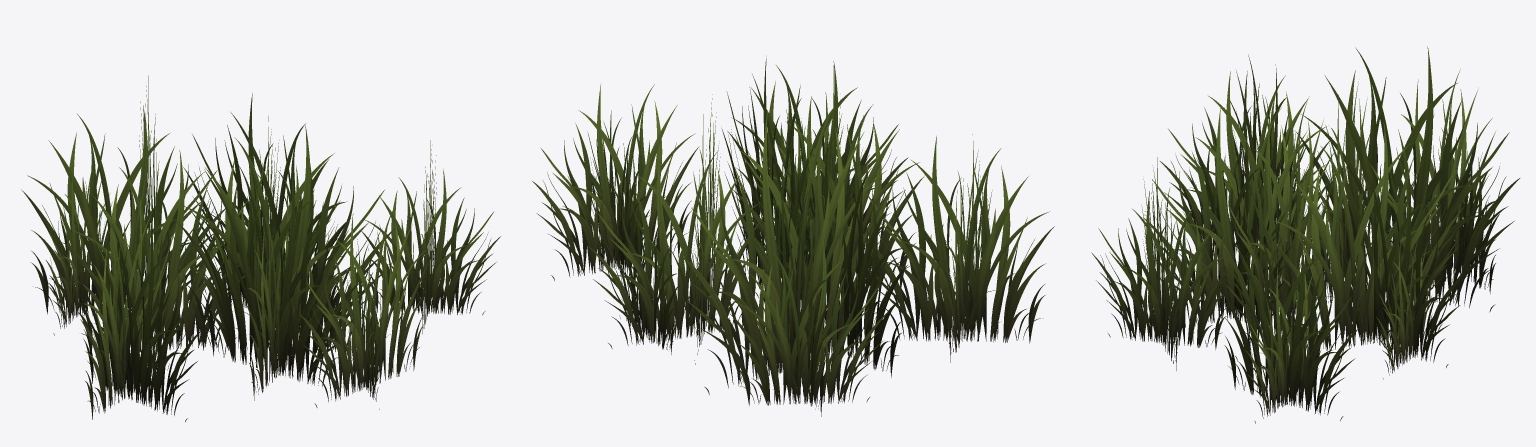
The model's file is Grass_06.fbx.
3 views of the same model, side by side, from view 1: azimuth 30°, elevation 25°; view 2: azimuth 150°, elevation 25°; view 3: azimuth 270°, elevation 25° (orthographic). The views are drawn at different scales.
Visible parts, largest first — view 1: Grass_06; view 2: Grass_06; view 3: Grass_06.
Boxes of the visible parts, left/top/right/bottom form: Grass_06: left=21, top=75, right=500, bottom=421; Grass_06: left=532, top=56, right=1054, bottom=416; Grass_06: left=1091, top=46, right=1519, bottom=423.
Size of the model in its own units: 2.15 by 1.82 by 1.22.
